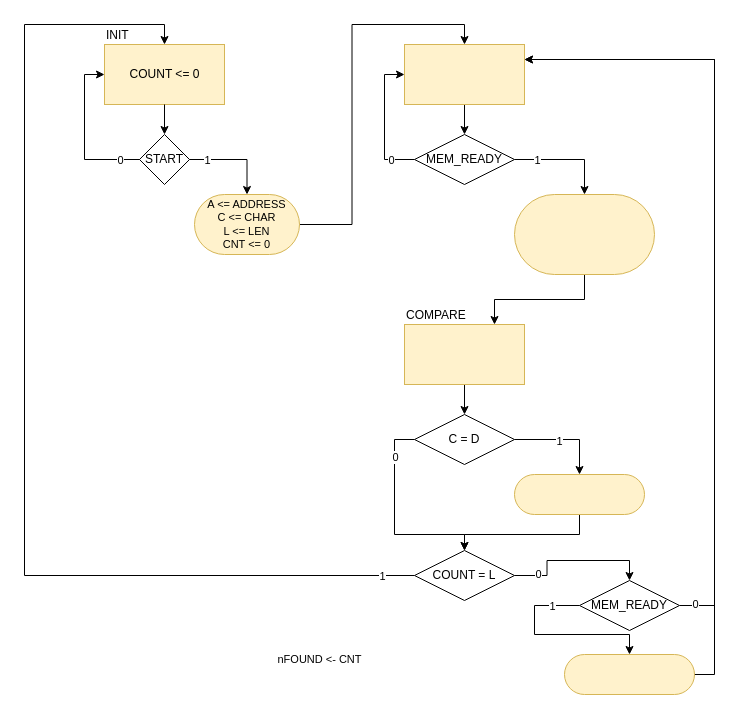
Some shapes in this 740 by 720 pixel diagram are drawn without their labels. The centre of each missing label's shape, as x and y in pixels:
CNT <= CNT + 1: (579,494)
D <= MEM_DATAIN COUNT <= COUNT + 1 A <= A + 1 MEM_ADDRESS <- A MEM_ENABLE <- 1: (584,234)
FETCH: (464,74)
MEM_ADDRESS <- A MEM_ENABLE <- 1: (629,674)
